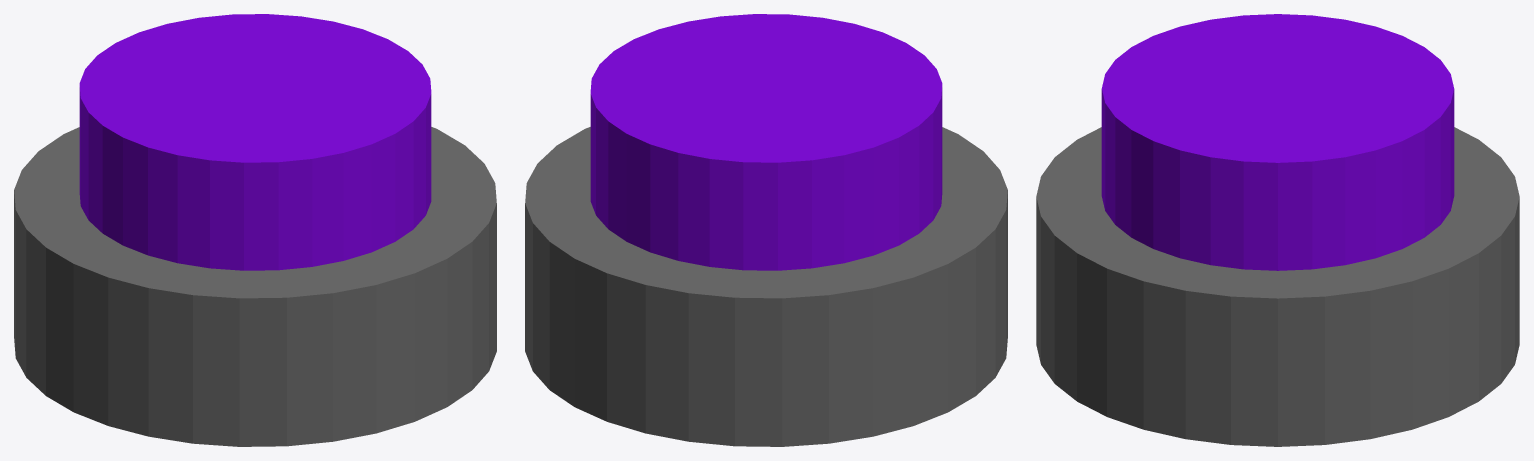
File: PurpleButton.glb
3 renders of one model, left to right at view 1: azimuth 30°, elevation 25°; view 2: azimuth 150°, elevation 25°; view 3: azimuth 270°, elevation 25°, orthographic.
Visible parts, largest first — view 1: Base, Button; view 2: Base, Button; view 3: Base, Button.
Part boxes in pixels (x1,y1,x2,y2): Base: (14, 127, 496, 446); Button: (79, 14, 431, 270); Base: (525, 127, 1007, 446); Button: (590, 14, 942, 270); Base: (1036, 127, 1519, 446); Button: (1101, 14, 1454, 270).
Bounding box in the file's own units: 0.9081 × 0.5316 × 0.9081.
